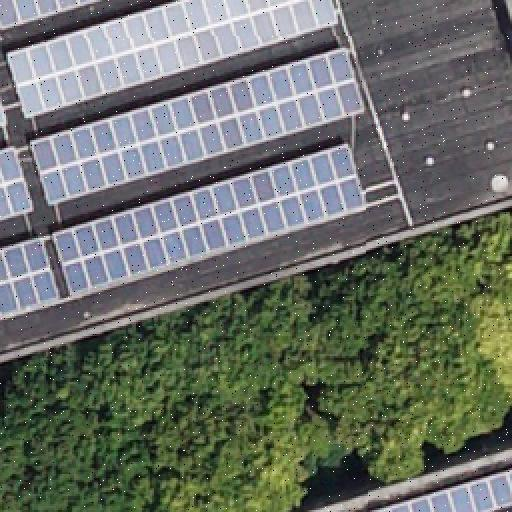solar-panel: (27, 46, 365, 206), (52, 142, 368, 294), (5, 1, 339, 119), (369, 465, 511, 511), (0, 235, 64, 317), (1, 0, 103, 32), (0, 145, 36, 223), (0, 94, 8, 130)
